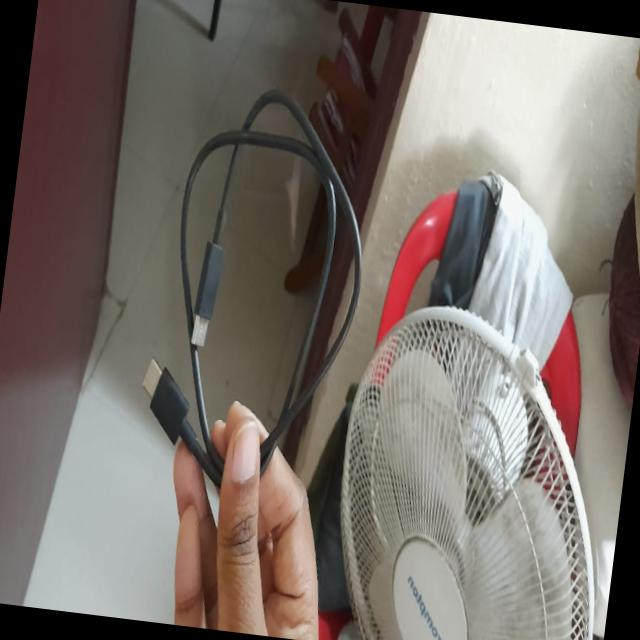Charger - Recyclable: (129, 72, 384, 504)
